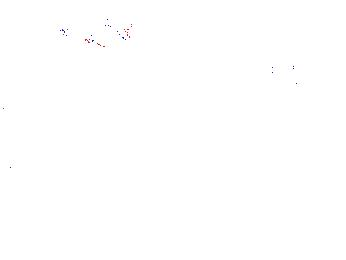redtail glassfish: (57, 19, 132, 43)
